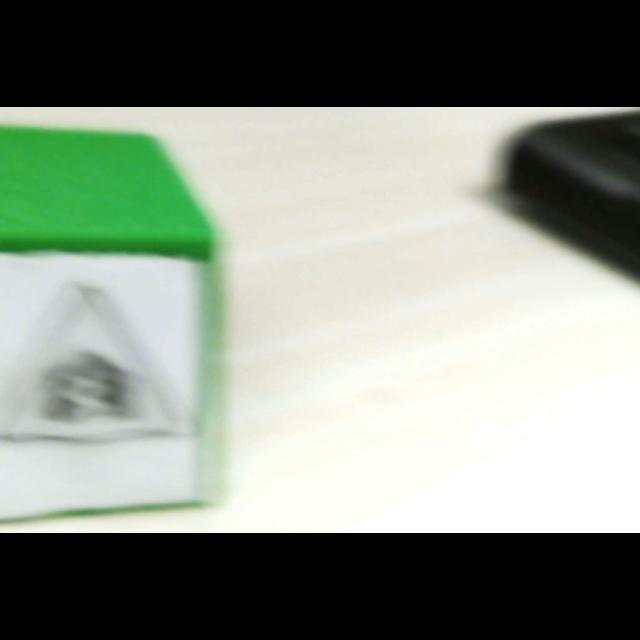Earthquake: (0, 283, 190, 442)
